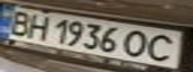1: (45, 16, 72, 45)
3: (81, 20, 103, 52)
6: (100, 24, 124, 54)
9: (63, 18, 87, 47)
B: (3, 8, 36, 37)
C: (142, 32, 184, 63)
H: (21, 11, 54, 40)
O: (121, 28, 154, 58)
